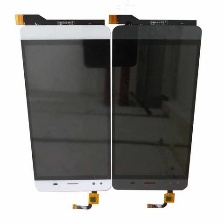phone: (110, 20, 205, 193), (16, 21, 112, 192)
